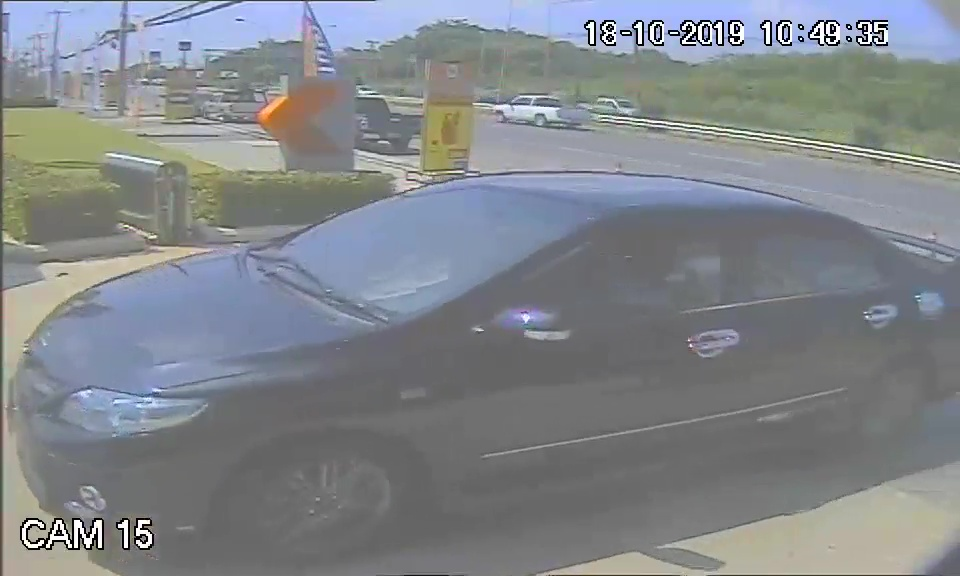sedan: (10, 167, 918, 534)
